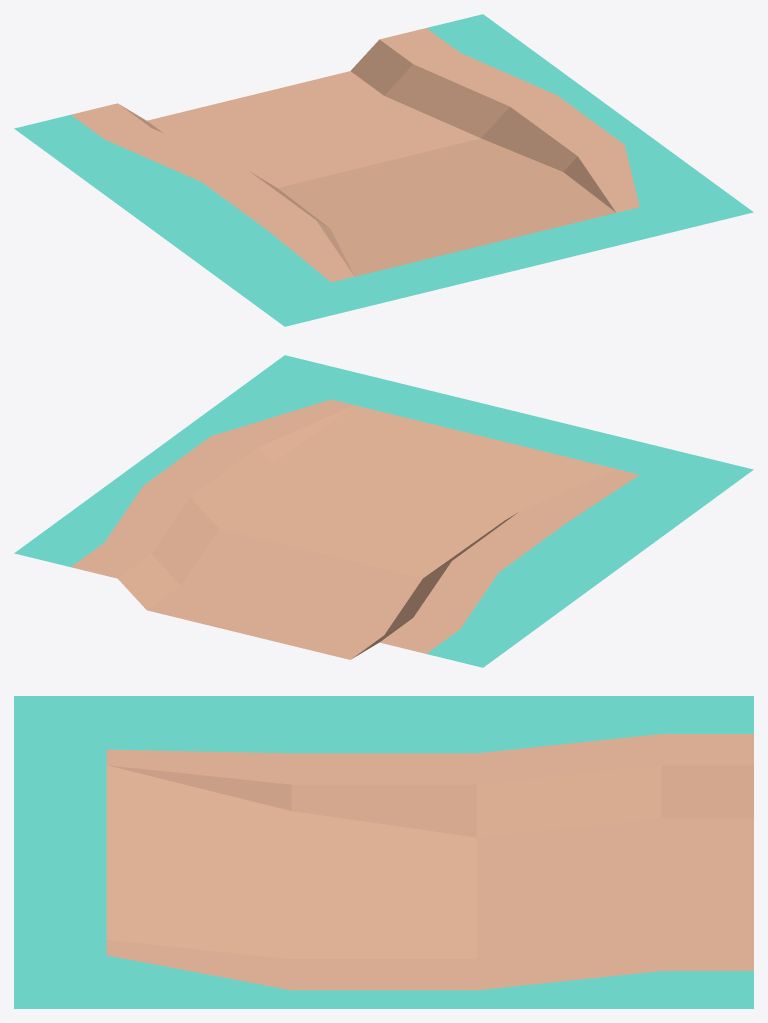
The model's file is ground_pathEnd.gltf.
3 renders of one model, top to bottom at view 1: azimuth 30°, elevation 25°; view 2: azimuth 150°, elevation 25°; view 3: azimuth 270°, elevation 25°, orthographic. The views are drawn at different scales.
Visible parts, largest first — view 1: ground_pathEnd; view 2: ground_pathEnd; view 3: ground_pathEnd.
Part boxes in pixels (<box>): ground_pathEnd: <box>14,14,753,326</box>; ground_pathEnd: <box>14,355,753,667</box>; ground_pathEnd: <box>14,696,753,1008</box>.
Size of the model in its own units: 1 by 0.05 by 1.
